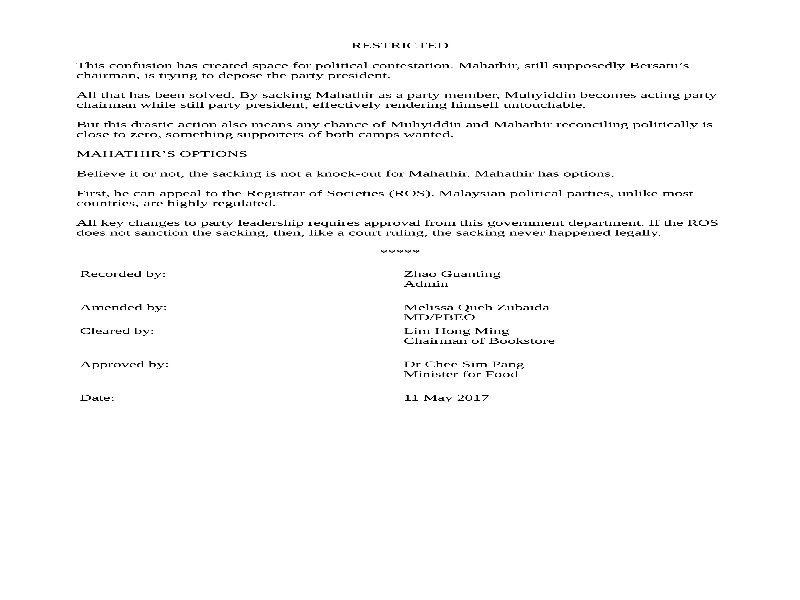borderless: (65, 258, 573, 415)
cell: (400, 326, 561, 353), (400, 298, 555, 325), (401, 355, 534, 382), (400, 267, 508, 292), (76, 266, 169, 285), (400, 391, 495, 409), (77, 302, 176, 318), (78, 358, 178, 373), (77, 325, 159, 342), (78, 389, 119, 408)
